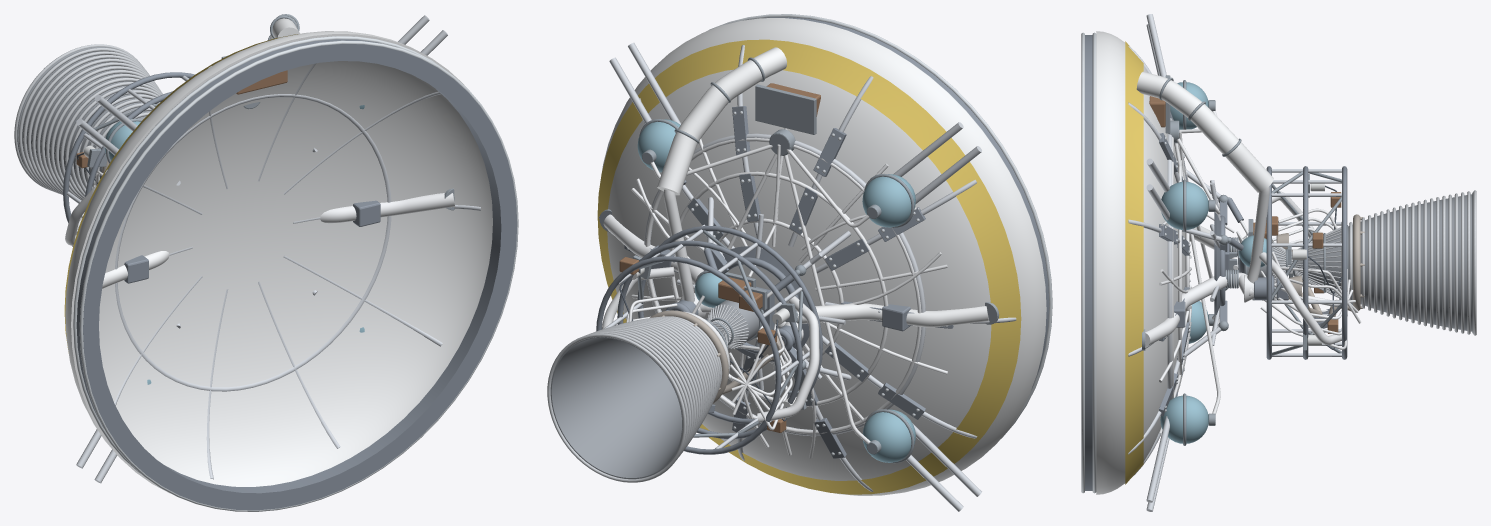
File: thruster-standard.glb
3 renders of one model, left to right at view 1: azimuth 30°, elevation 25°; view 2: azimuth 150°, elevation 25°; view 3: azimuth 270°, elevation 25°, orthographic. The views are drawn at different scales.
Parts seen in each view (by area): view 1: aft_dome, thrust_interface_ring, thrust_ring_flange_0.475, nozzle_extension, dome_equator_ring, thrust_ring_flange_0.325, fuel_feedline, powerhead_support_ring_2, nozzle_circumferential_rib_20, nozzle_circumferential_rib_19, nozzle_circumferential_rib_18, nozzle_circumferential_rib_17 (+14 smaller); view 2: aft_dome, aft_dome_mli, nozzle_extension, lh2_feedline_protective_sleeve, powerhead_support_ring_2, thrust_ring_flange_0.475, lox_feedline, bay_avionics_mount, powerhead_secondary_line_bundle, aft_plumbing_ring_2, powerhead_support_ring_1, dome_equator_ring (+35 smaller); view 3: aft_dome, aft_dome_mli, nozzle_extension, lh2_feedline_protective_sleeve, thrust_interface_ring, thrust_ring_flange_0.325, thrust_ring_flange_0.475, powerhead_secondary_line_bundle, helium_copv_1, helium_copv_3, combustion_chamber, fuel_feedline (+27 smaller).
Part boxes in pixels (x1=…): aft_dome: x1=65, y1=31, x2=492, y2=493; thrust_interface_ring: x1=76, y1=39, x2=517, y2=510; thrust_ring_flange_0.475: x1=79, y1=40, x2=518, y2=511; nozzle_extension: x1=22, y1=51, x2=151, y2=185; dome_equator_ring: x1=115, y1=94, x2=391, y2=391; thrust_ring_flange_0.325: x1=73, y1=36, x2=447, y2=475; fuel_feedline: x1=320, y1=193, x2=455, y2=223; powerhead_support_ring_2: x1=63, y1=72, x2=194, y2=234; nozzle_circumferential_rib_20: x1=18, y1=48, x2=143, y2=190; nozzle_circumferential_rib_19: x1=23, y1=51, x2=146, y2=192; nozzle_circumferential_rib_18: x1=27, y1=55, x2=149, y2=193; nozzle_circumferential_rib_17: x1=32, y1=58, x2=149, y2=194; aft_dome: x1=602, y1=18, x2=1046, y2=495; aft_dome_mli: x1=597, y1=39, x2=1021, y2=494; nozzle_extension: x1=551, y1=337, x2=682, y2=478; lh2_feedline_protective_sleeve: x1=657, y1=47, x2=786, y2=195; powerhead_support_ring_2: x1=596, y1=256, x2=781, y2=454; thrust_ring_flange_0.475: x1=706, y1=14, x2=1052, y2=438; lox_feedline: x1=797, y1=303, x2=988, y2=327; bay_avionics_mount: x1=755, y1=84, x2=816, y2=134; powerhead_secondary_line_bundle: x1=626, y1=295, x2=794, y2=430; aft_plumbing_ring_2: x1=645, y1=137, x2=921, y2=434; powerhead_support_ring_1: x1=617, y1=240, x2=802, y2=438; dome_equator_ring: x1=644, y1=133, x2=925, y2=436; aft_dome: x1=1096, y1=31, x2=1185, y2=494; aft_dome_mli: x1=1125, y1=41, x2=1143, y2=484; nozzle_extension: x1=1348, y1=194, x2=1472, y2=331; lh2_feedline_protective_sleeve: x1=1136, y1=71, x2=1273, y2=192; thrust_interface_ring: x1=1085, y1=35, x2=1092, y2=490; thrust_ring_flange_0.325: x1=1092, y1=32, x2=1096, y2=493; thrust_ring_flange_0.475: x1=1081, y1=32, x2=1084, y2=493; powerhead_secondary_line_bundle: x1=1260, y1=208, x2=1361, y2=349; helium_copv_1: x1=1161, y1=182, x2=1208, y2=229; helium_copv_3: x1=1160, y1=395, x2=1208, y2=443; combustion_chamber: x1=1247, y1=229, x2=1341, y2=295; fuel_feedline: x1=1145, y1=276, x2=1227, y2=346.
Size of the model in its own units: 6.1 by 6.1 by 5.2.
